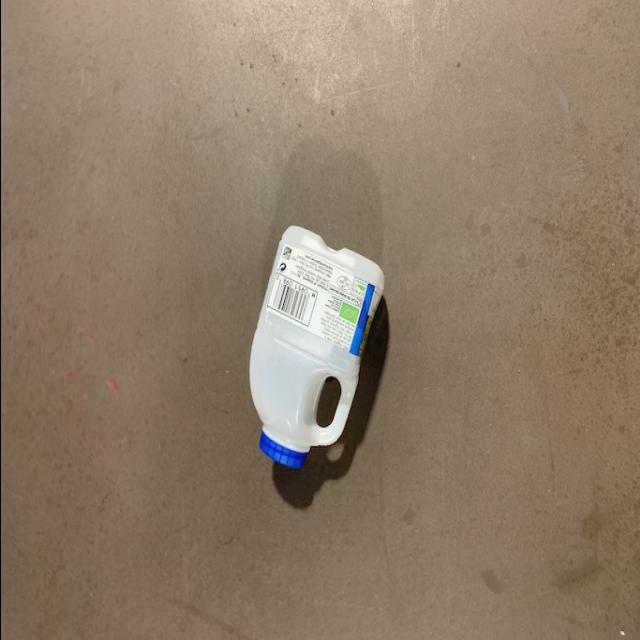litter: (239, 218, 384, 478)
